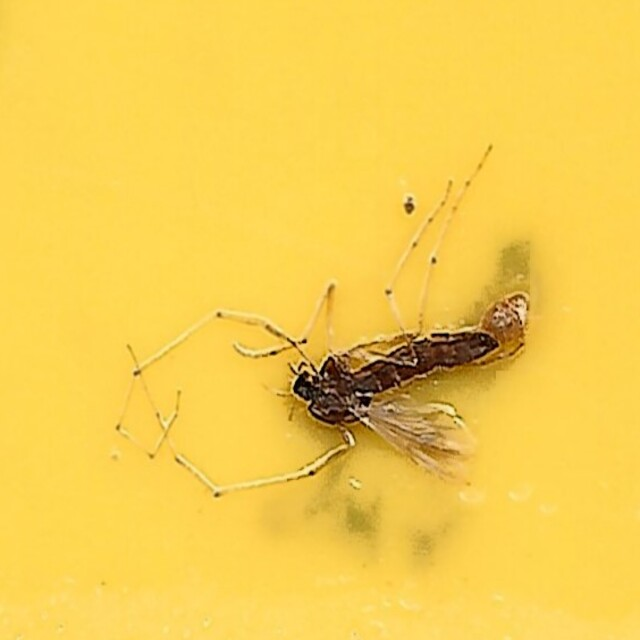Nematocera: (113, 137, 527, 503)
